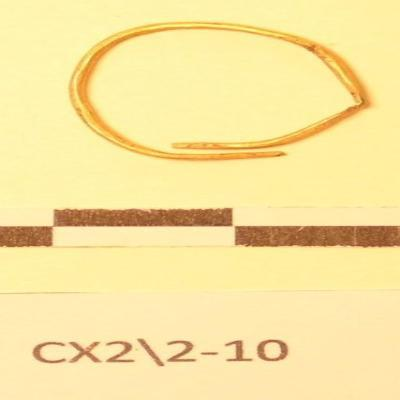archeology: (68, 22, 370, 163)
